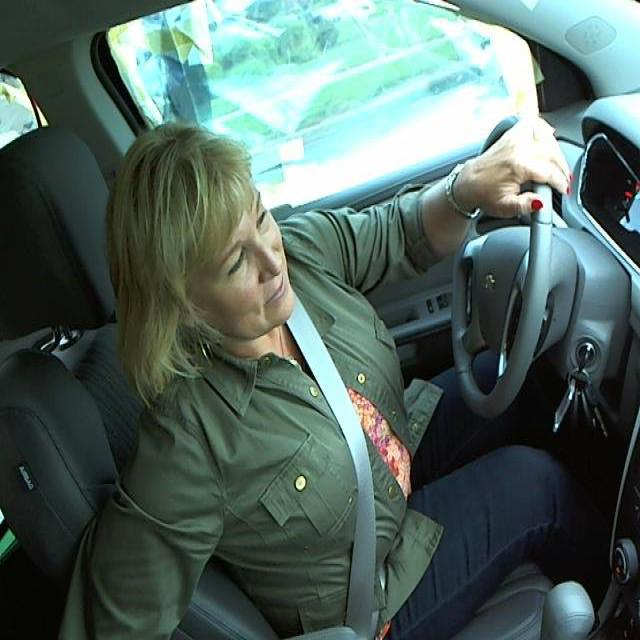seatbelt: (279, 342, 411, 638)
